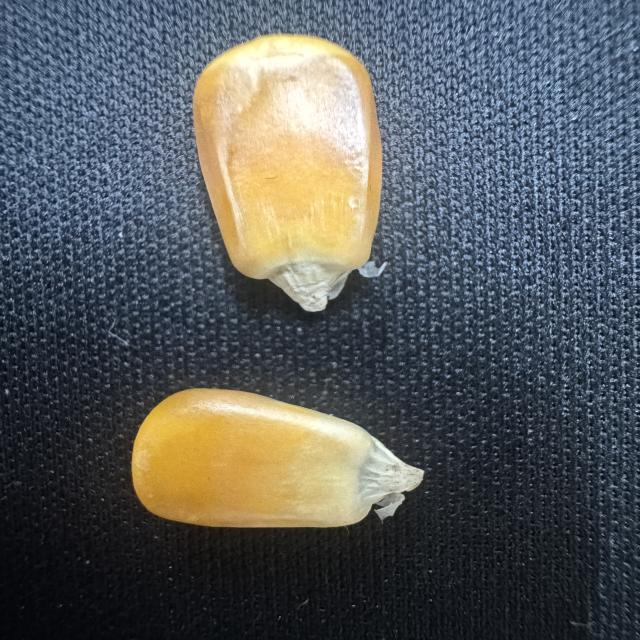Good-Seed: (186, 29, 386, 314), (126, 385, 428, 532)
